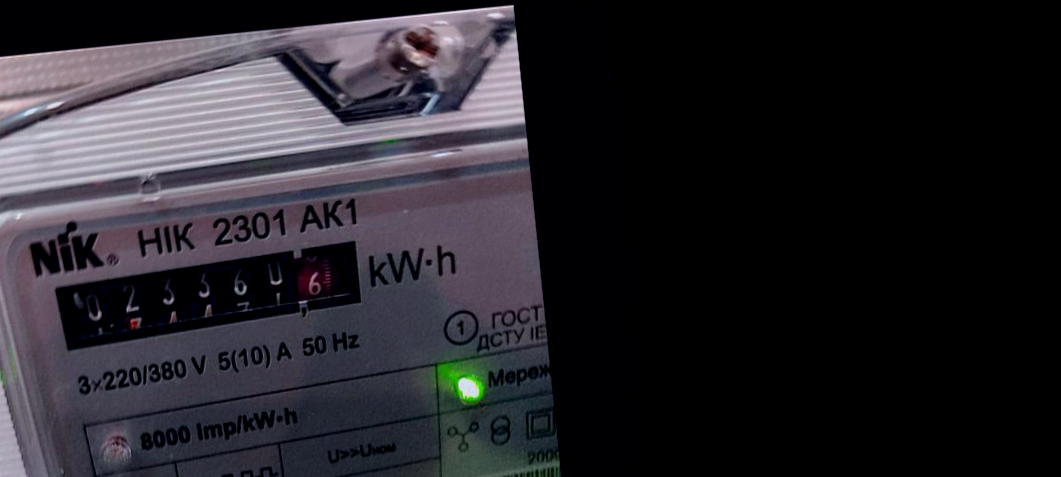0: (79, 289, 105, 325), (260, 256, 285, 289)
2: (118, 280, 141, 315)
3: (191, 266, 213, 300), (153, 275, 175, 308)
6: (226, 264, 250, 299), (301, 265, 325, 300)
screen: (34, 230, 380, 359)
